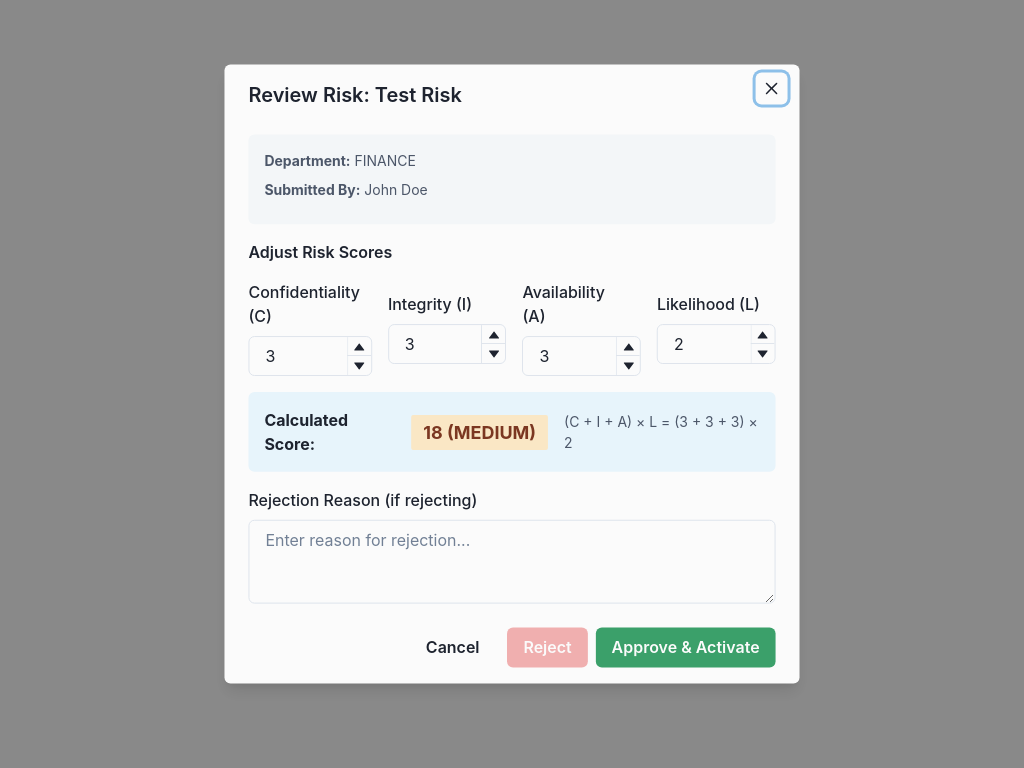
Test: RiskApprovalModal › User Interactions › should enable reject button when rejection comment is provided
Type "Rejection reason" into the text box with placeholder "Enter reason for rejection..." at (512, 562), box [248,520,776,604]
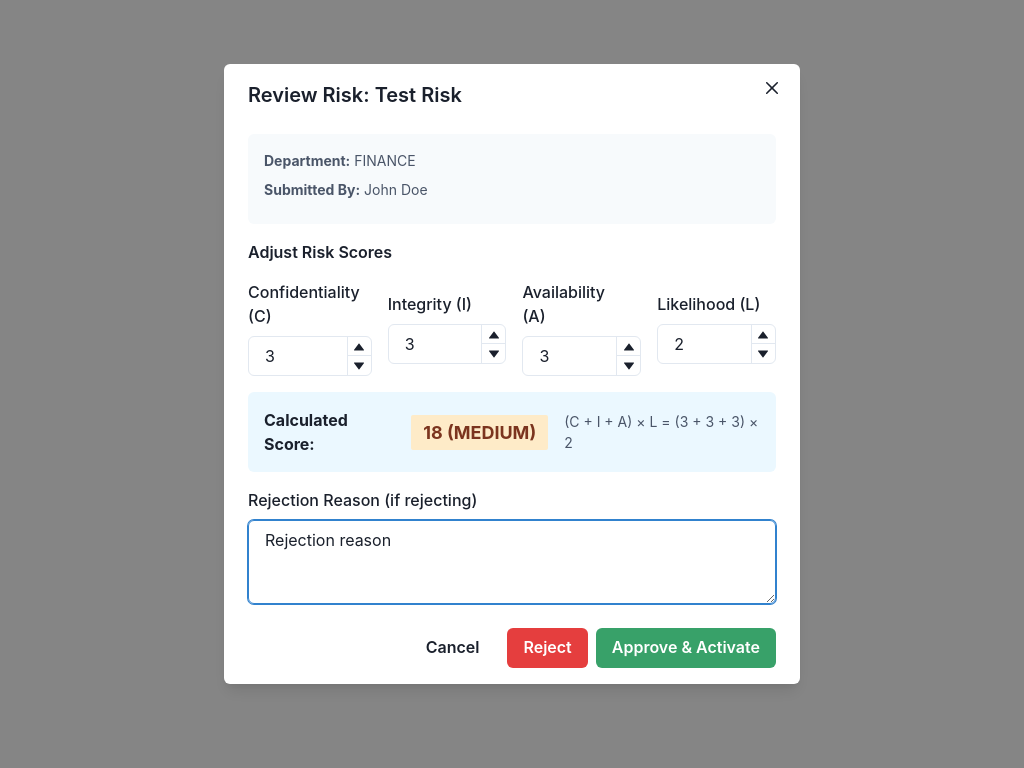
Check: the button "Reject" is enabled, box [508,628,588,668]
